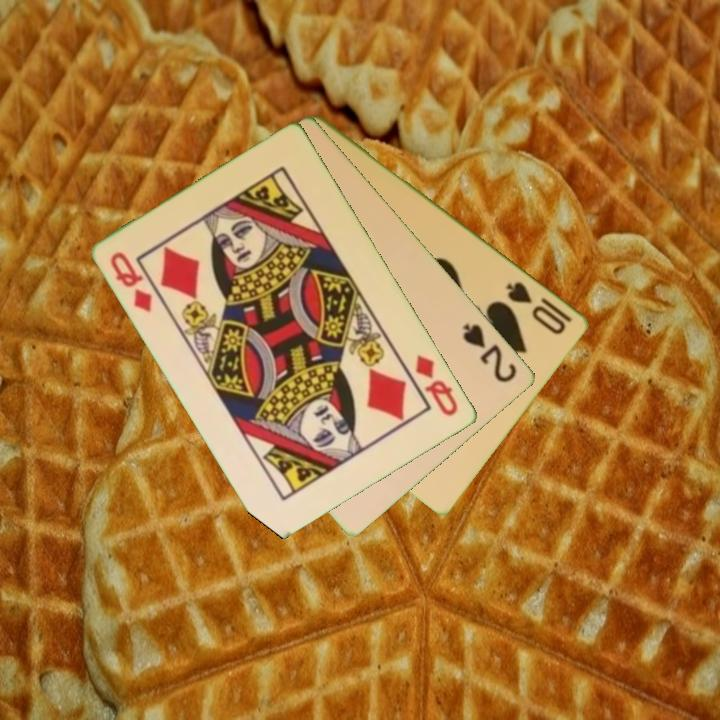10s: (503, 278, 570, 338)
2s: (460, 319, 521, 386)
Qd: (412, 351, 462, 420), (107, 248, 156, 316)
